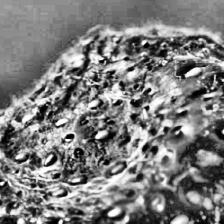Anthracnose Fruit Rot: (0, 53, 199, 216)
